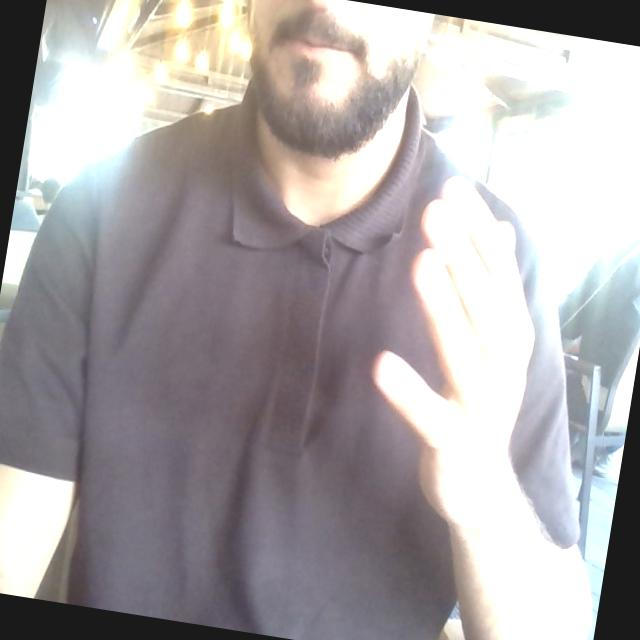Hand: (374, 178, 533, 528)
